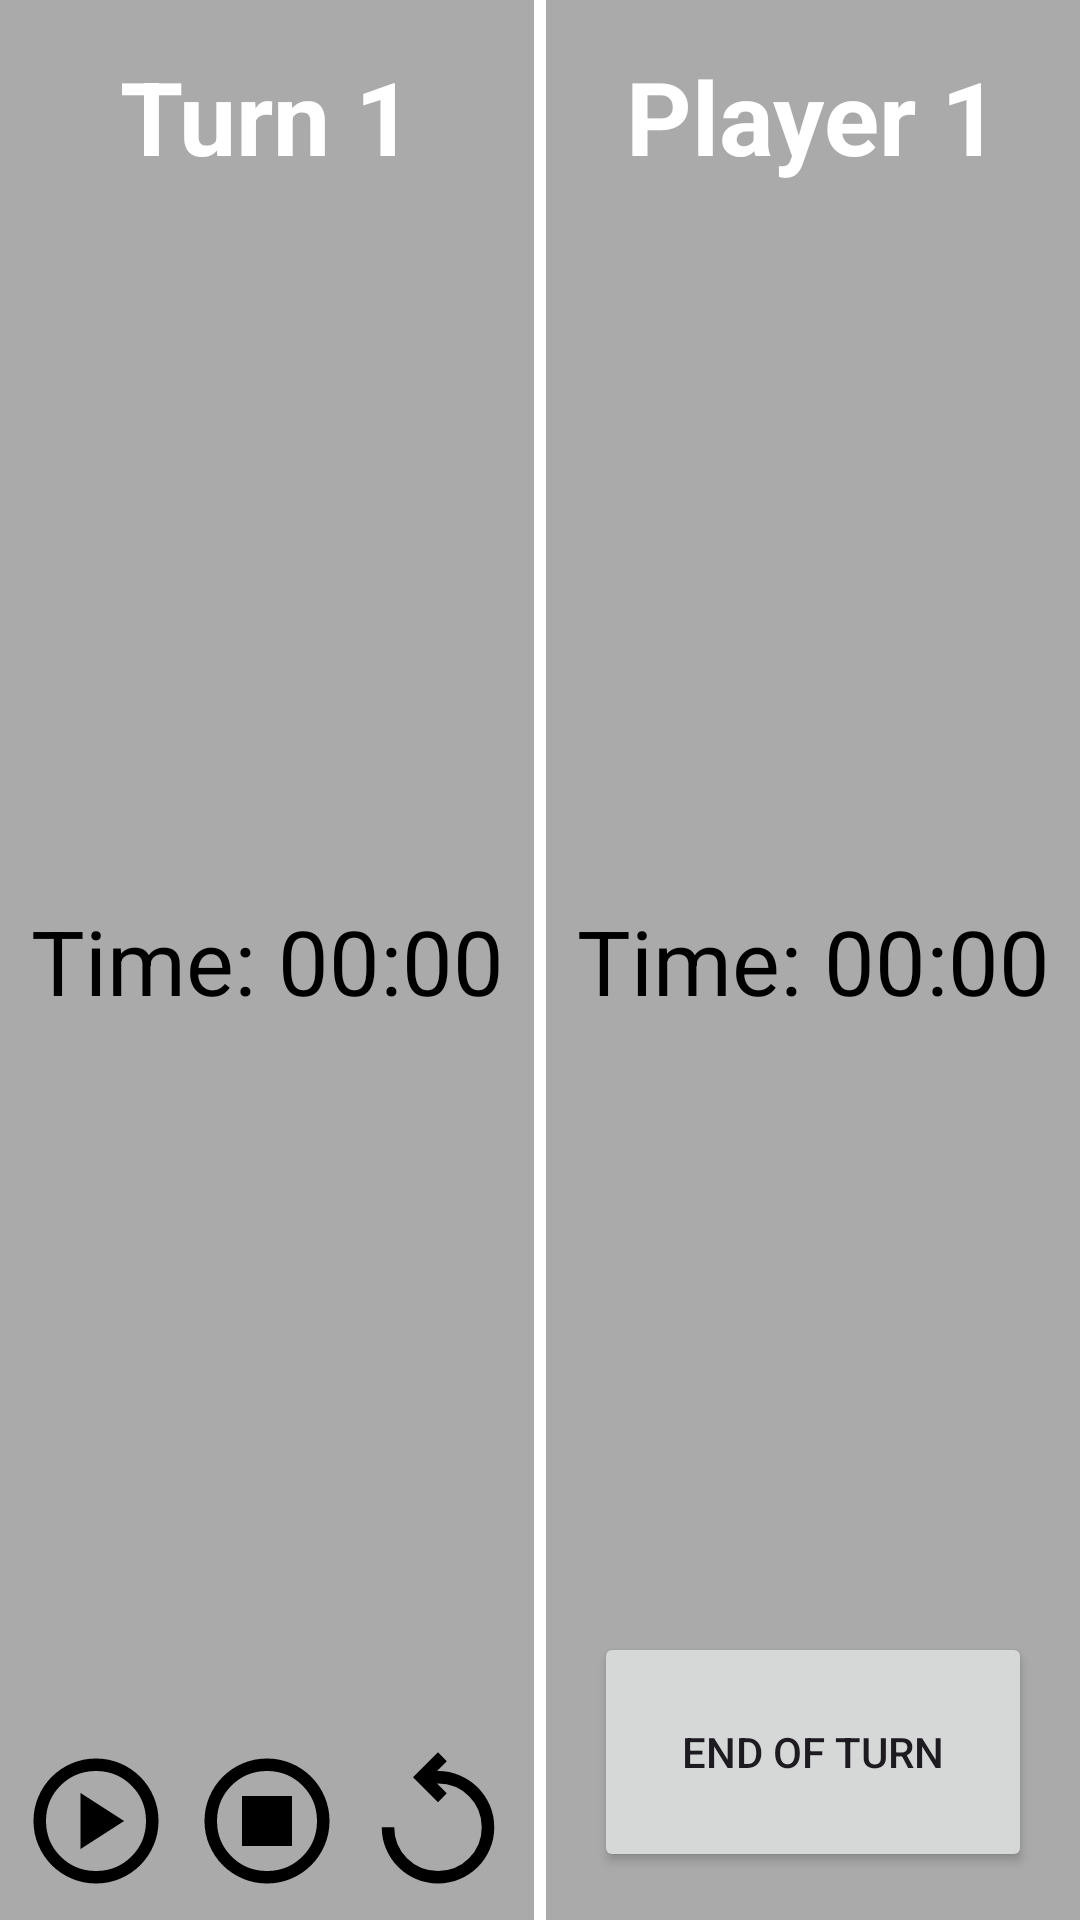

Where to tap for icons on this 1080×1920 app screen, as (x,y):
play circle: (96,1821)
stop circle: (267,1821)
